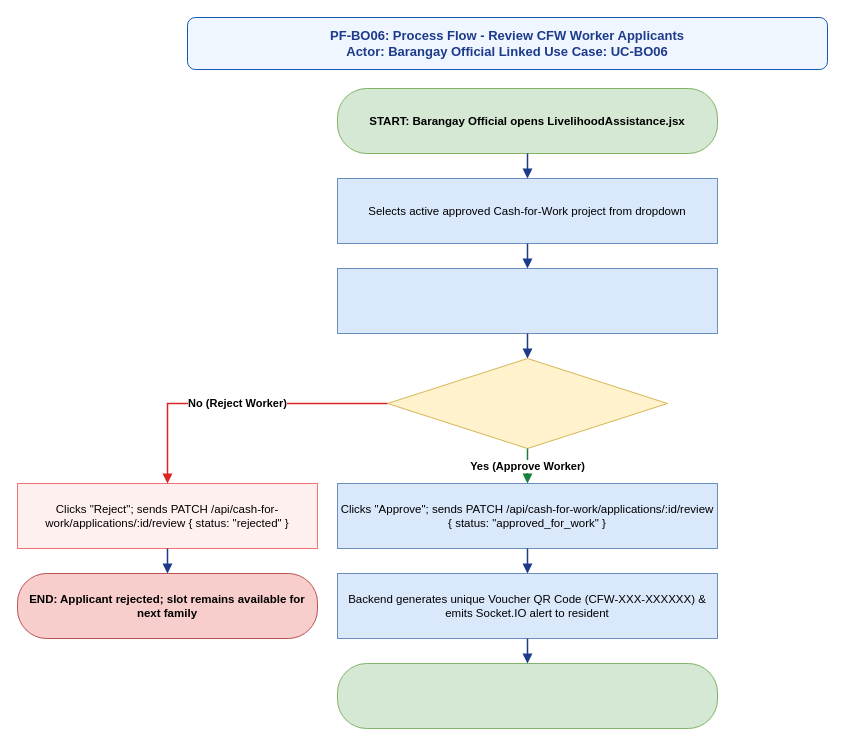
The diagram is 845 pixels wide and 746 high, and some of its shapes have lost their labels. The box of each missing label's shape, as (x1, y1, x2, y2) in pixels:
Applicant approved for recovery slot?: (386, 358, 668, 448)
END: Worker approved; ready for daily field attendance scanning: (336, 662, 718, 728)
Inspects worker applicants registry ranked by Vulnerability Score: (336, 268, 718, 334)
